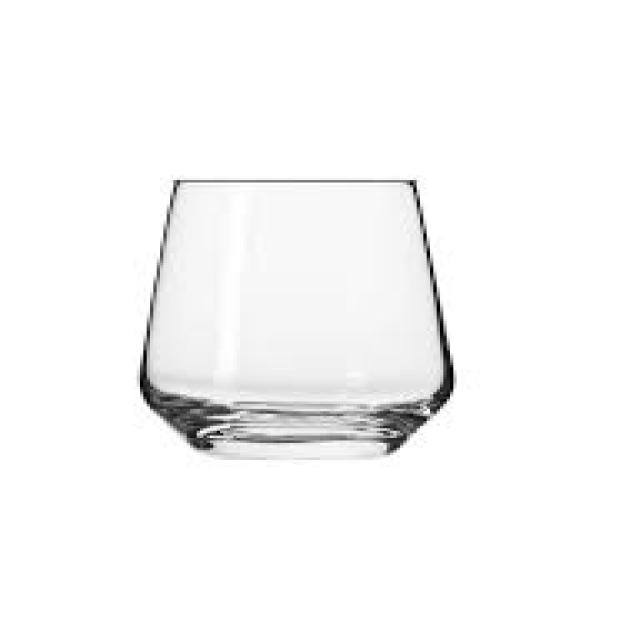Dry: (130, 170, 462, 461)
